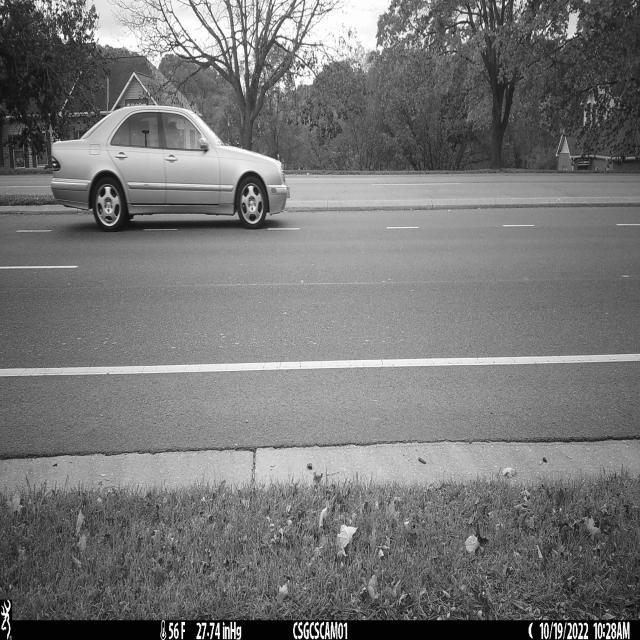Sedan: (47, 103, 289, 232)
